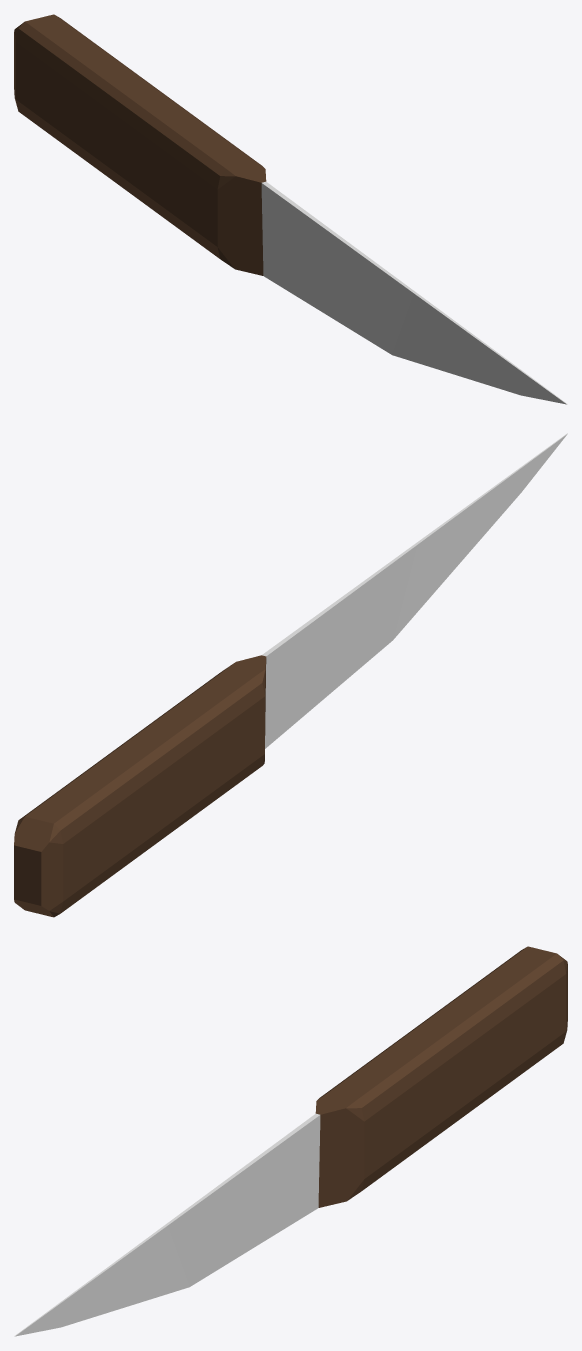
Rendered from knife.glb.
3 renders of one model, top to bottom at view 1: azimuth 30°, elevation 25°; view 2: azimuth 150°, elevation 25°; view 3: azimuth 330°, elevation 25°, orthographic.
Parts seen in each view (by area): view 1: Cube; view 2: Cube; view 3: Cube.
Boxes of the visible parts, <box> form: Cube: <box>14,14,567,404</box>; Cube: <box>14,433,567,917</box>; Cube: <box>14,946,567,1336</box>.
Bounding box in the file's own units: 0.1874 × 0.3538 × 3.69.
